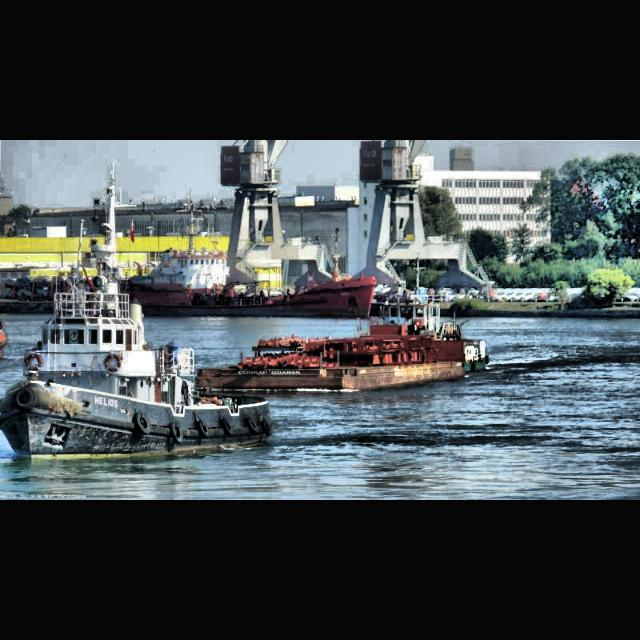tug: (0, 269, 274, 461)
